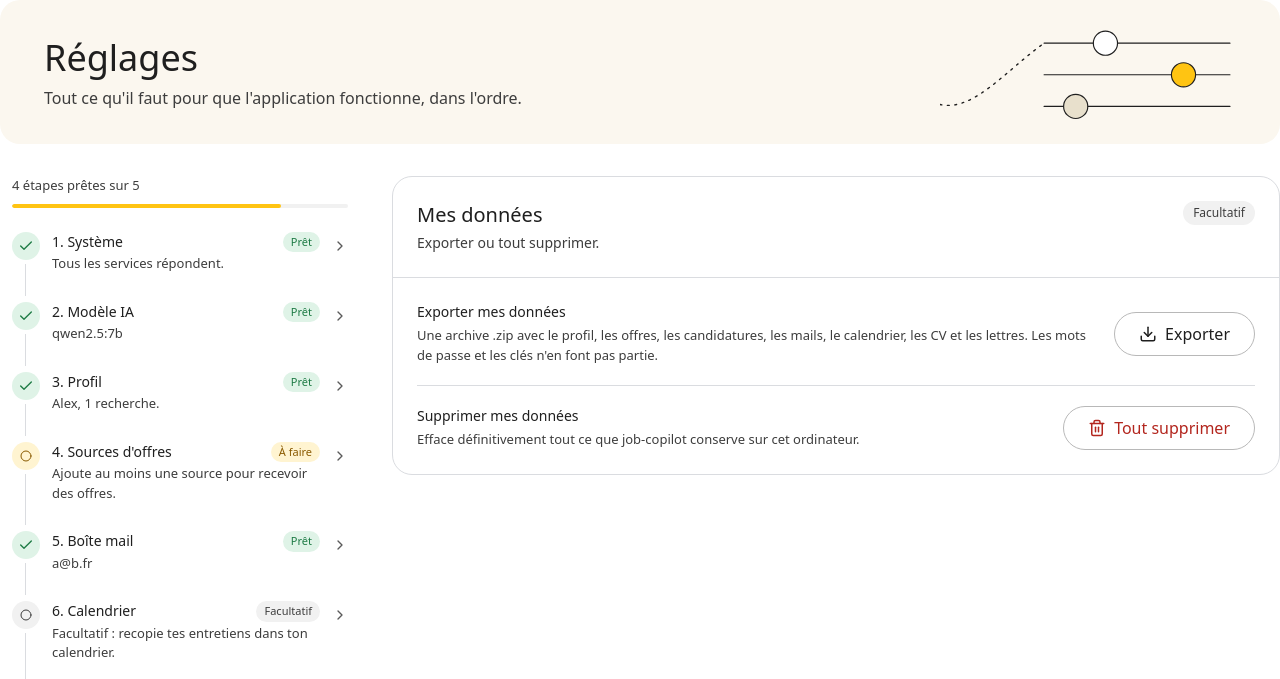
Test: SettingsScreen › asks before erasing everything
Click the button "Tout supprimer" at point(1159, 428), box [1063,406,1255,450]
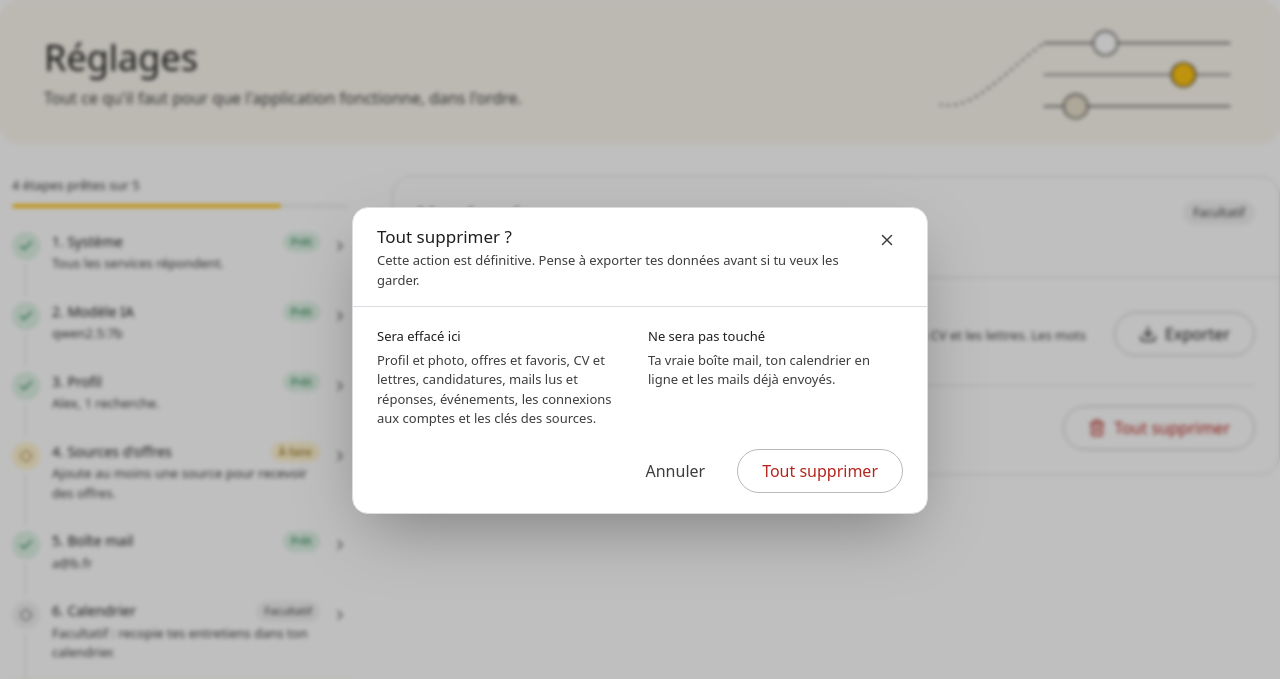
Now the dialog "Tout supprimer ?" is shown, box [352,206,928,514]
